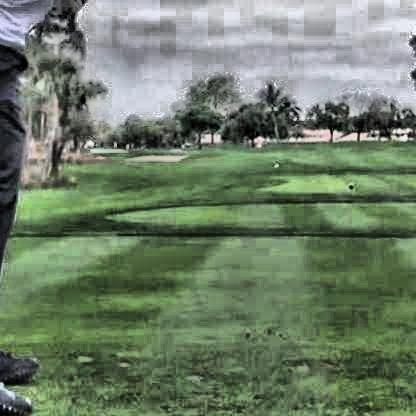golfball: (316, 100, 326, 110)
